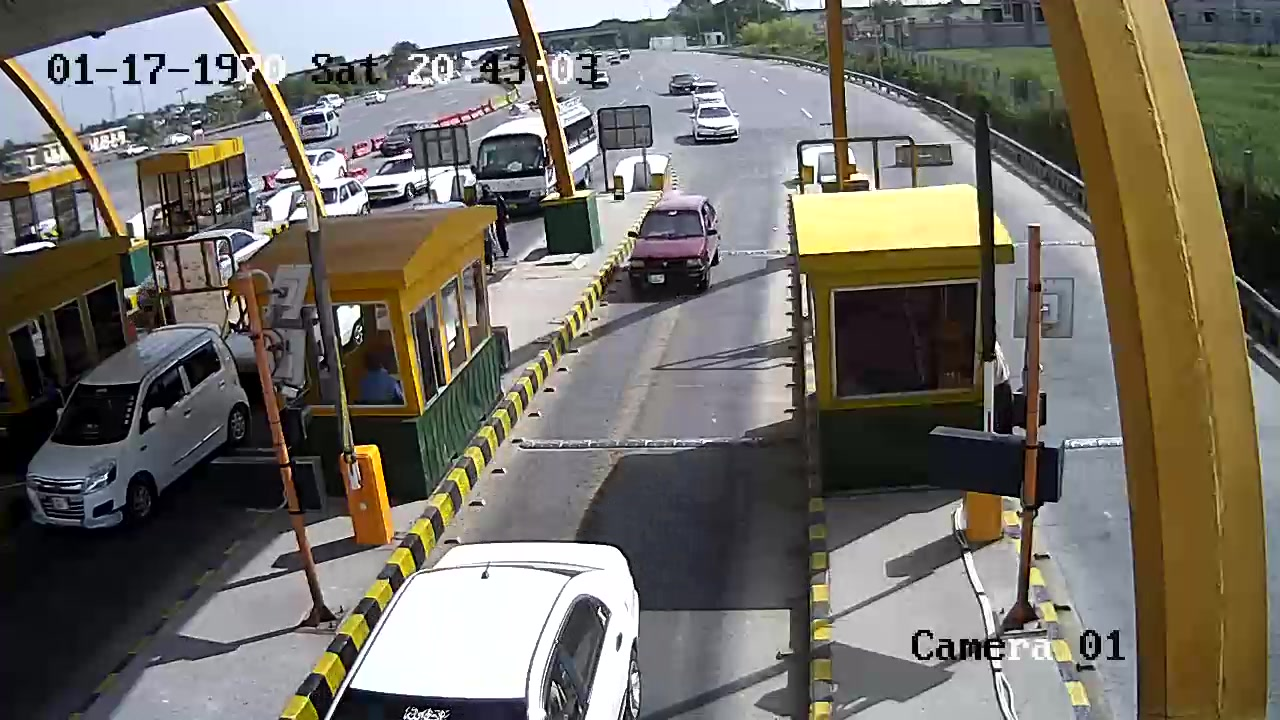F1: (623, 188, 728, 307)
